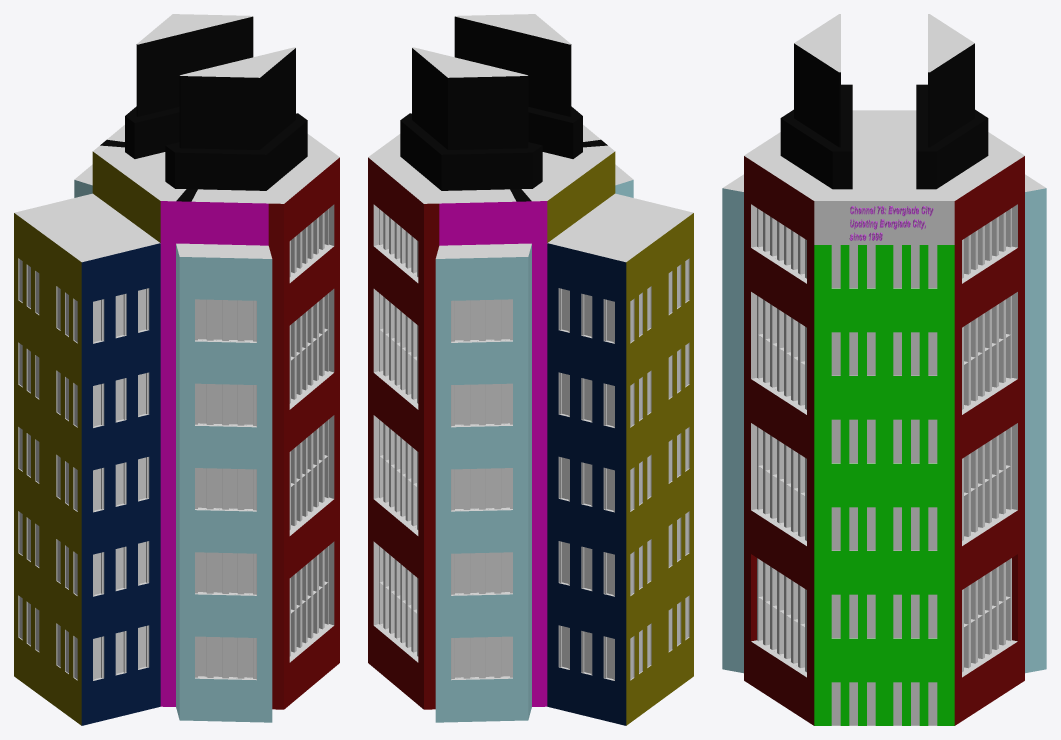
Rendered from channel_78_HQ.fbx.
3 views of the same model, side by side, from view 1: azimuth 30°, elevation 25°; view 2: azimuth 150°, elevation 25°; view 3: azimuth 270°, elevation 25° (orthographic). The views are drawn at different scales.
Parts seen in each view (by area): view 1: channel_78_HQ; view 2: channel_78_HQ; view 3: channel_78_HQ.
Part boxes in pixels (bbox=[...]): channel_78_HQ: bbox=[14, 14, 339, 725]; channel_78_HQ: bbox=[368, 14, 693, 725]; channel_78_HQ: bbox=[722, 14, 1046, 725].
Bounding box in the file's own units: 378 × 850 × 392.
